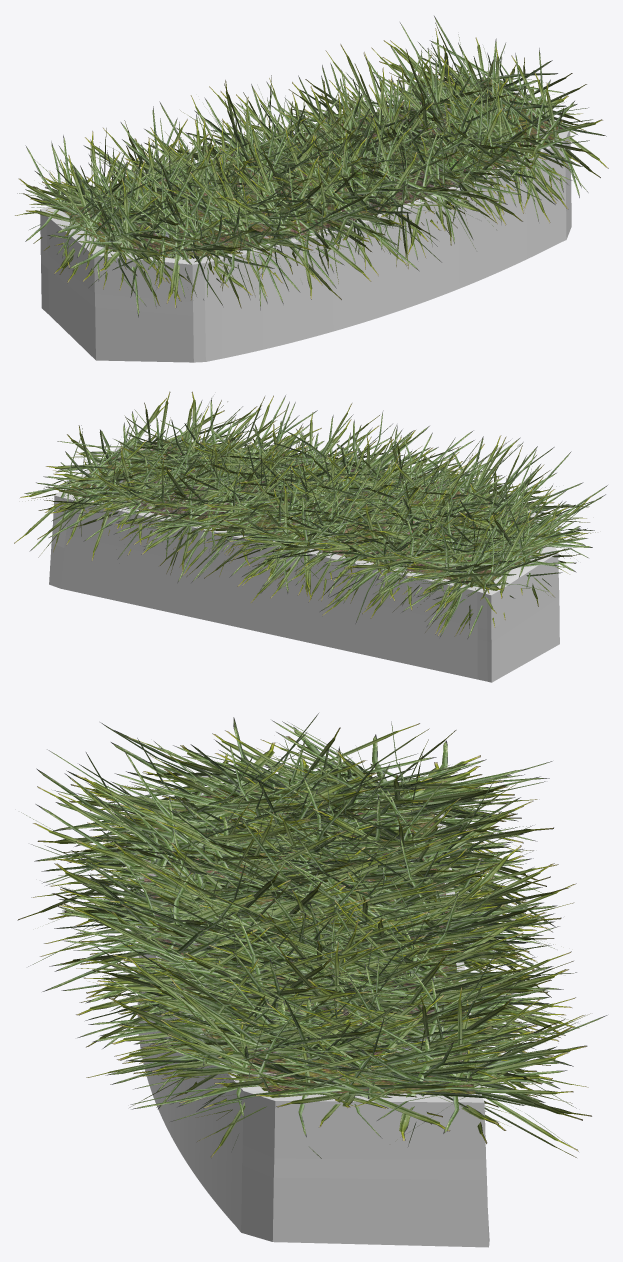
The model's file is rumputfix2 1.fbx.
3 views of the same model, one above another, from view 1: azimuth 30°, elevation 25°; view 2: azimuth 150°, elevation 25°; view 3: azimuth 270°, elevation 25° (orthographic). The views are drawn at different scales.
Parts seen in each view (by area): view 1: Cube.036, Cube.034; view 2: Cube.036, Cube.034; view 3: Cube.036, Cube.034, Cube.034|Grass1|Dupli|2038, Cube.034|Grass1|Dupli|882.
Part boxes in pixels (x1,y1,x2,y2): Cube.036: [40, 79, 571, 362]; Cube.034: [57, 78, 562, 256]; Cube.036: [49, 445, 559, 682]; Cube.034: [66, 441, 545, 586]; Cube.036: [137, 774, 489, 1247]; Cube.034: [144, 777, 475, 1093]; Cube.034|Grass1|Dupli|2038: [131, 1052, 395, 1109]; Cube.034|Grass1|Dupli|882: [280, 1056, 450, 1131].
Size of the model in its own units: 216 by 60.91 by 141.
4 materials, 2 textured.
